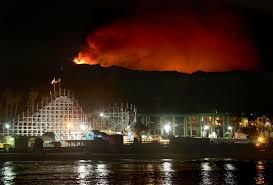fire: (73, 53, 96, 66)
